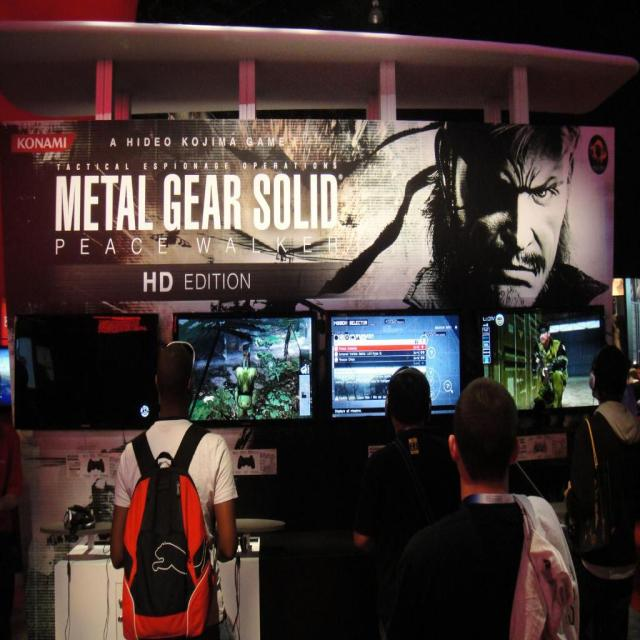backpack: (118, 422, 216, 639)
